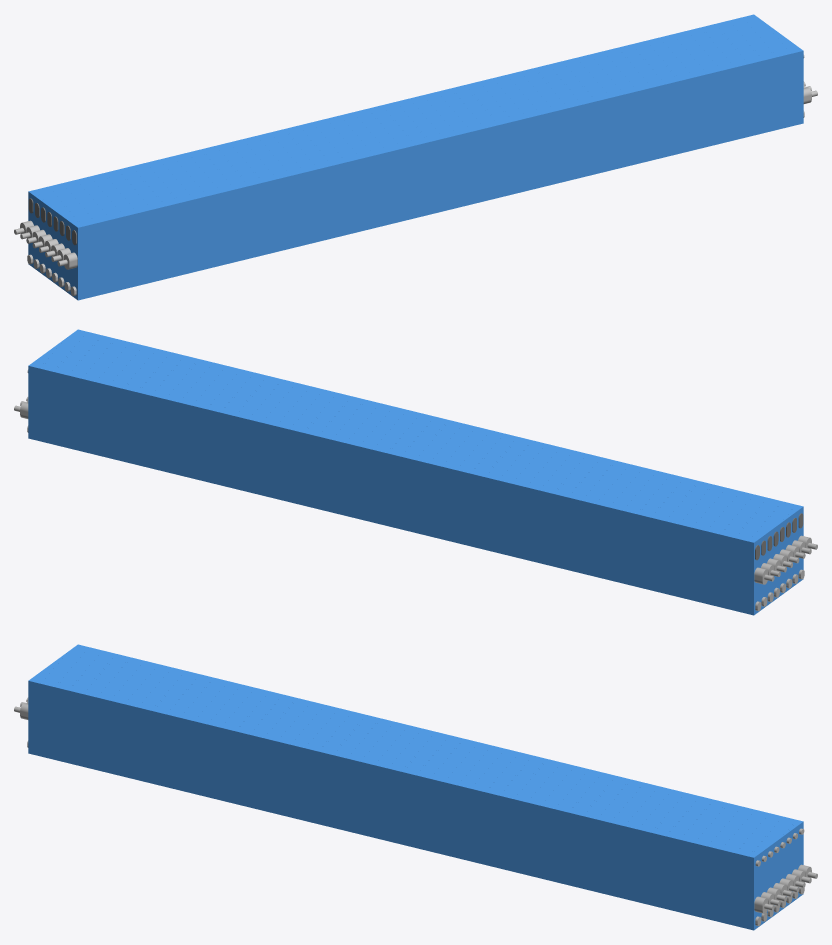
The model's file is BATTERY MODULE V2__CELLS.glb.
The picture shows the model from 3 angles, top to bottom: view 1: azimuth 30°, elevation 25°; view 2: azimuth 150°, elevation 25°; view 3: azimuth 330°, elevation 25°; orthographic projection.
Visible parts, largest first — view 1: battery-cell-base (×8); view 2: battery-cell-base (×8); view 3: battery-cell-base (×8).
Part boxes in pixels (x1,y1,x2,y2): battery-cell-base (×8): (14,14,817,300); battery-cell-base (×8): (14,329,817,615); battery-cell-base (×8): (14,644,817,930).
Bounding box in the file's own units: 0.987 × 0.0905 × 0.112.
